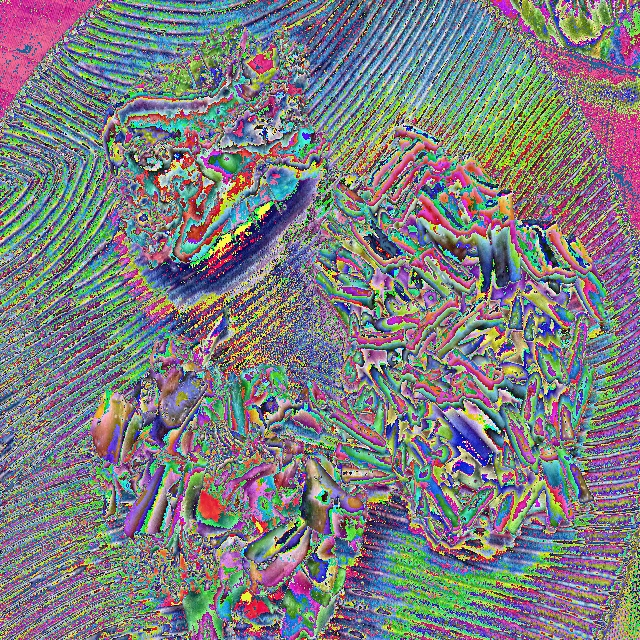background: (89, 119, 608, 639), (101, 24, 331, 270)
